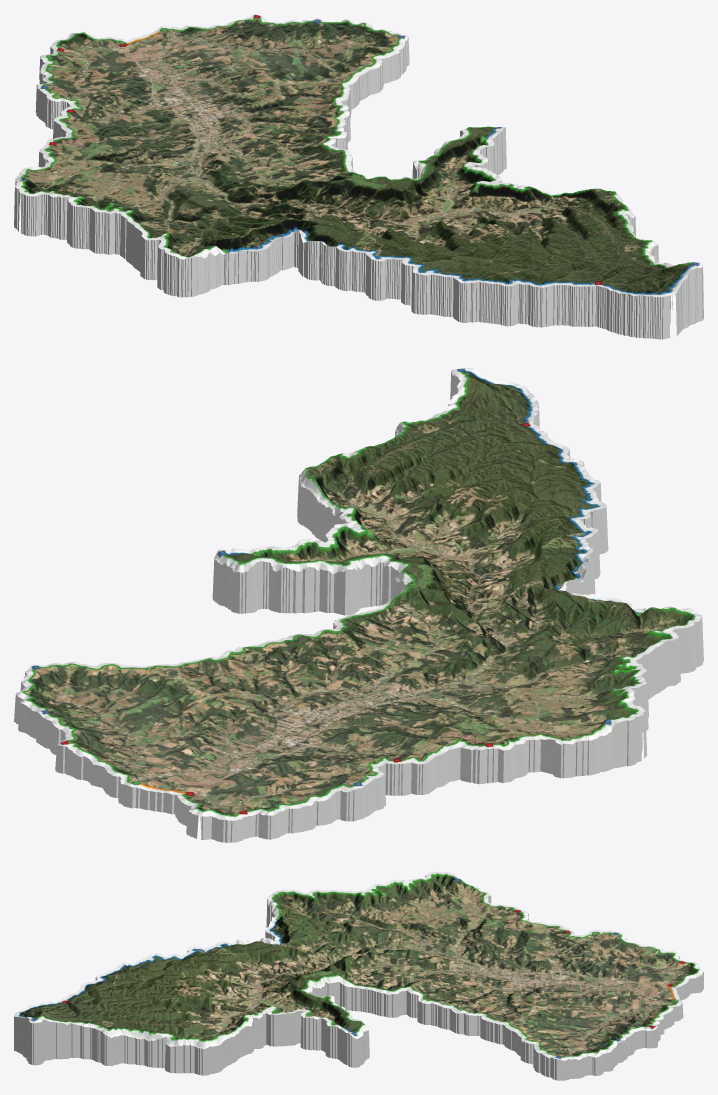
The picture shows the model from 3 angles, top to bottom: view 1: azimuth 30°, elevation 25°; view 2: azimuth 150°, elevation 25°; view 3: azimuth 270°, elevation 25°; orthographic projection. The views are drawn at different scales.
Size of the model in its own units: 1 by 0.1128 by 1.64.
Materials: 1 (1 with a texture image).
